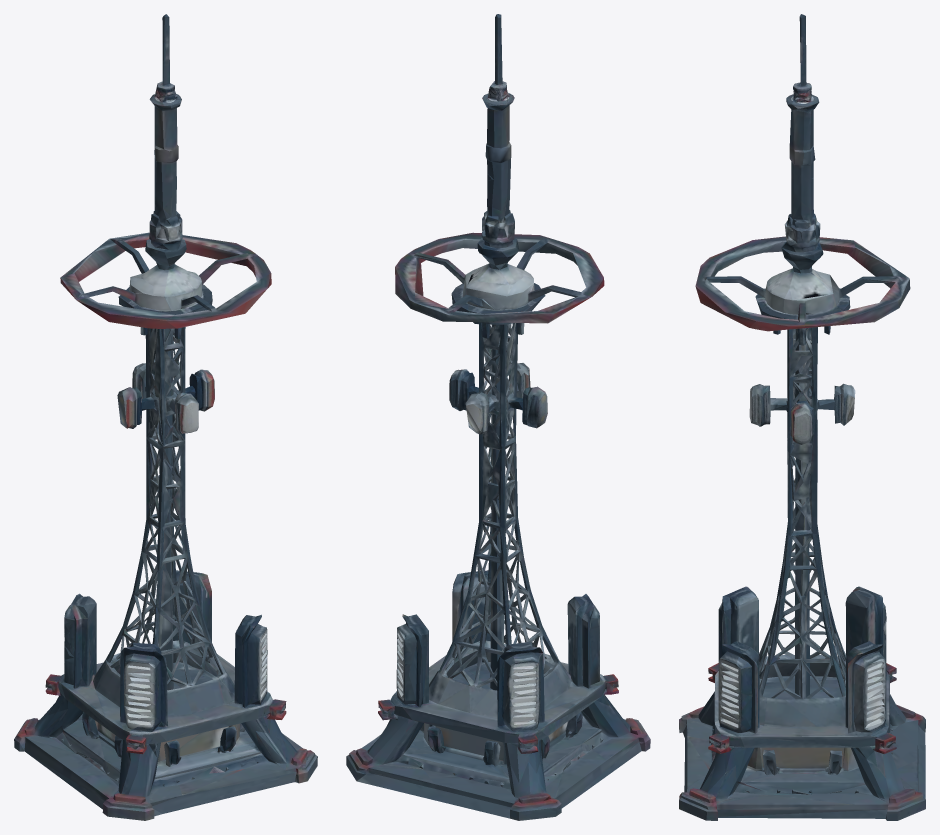
The model's file is relay.glb.
3 views of the same model, side by side, from view 1: azimuth 30°, elevation 25°; view 2: azimuth 150°, elevation 25°; view 3: azimuth 270°, elevation 25° (orthographic).
Parts seen in each view (by area): view 1: output_unwrapped; view 2: output_unwrapped; view 3: output_unwrapped.
Boxes of the visible parts, x1,y1,x2,y2 form: output_unwrapped: (14,14,317,820); output_unwrapped: (346,14,650,820); output_unwrapped: (679,14,925,820).
Size of the model in its own units: 0.5622 by 1.9 by 0.5624.
Materials: 1 (1 with a texture image).
